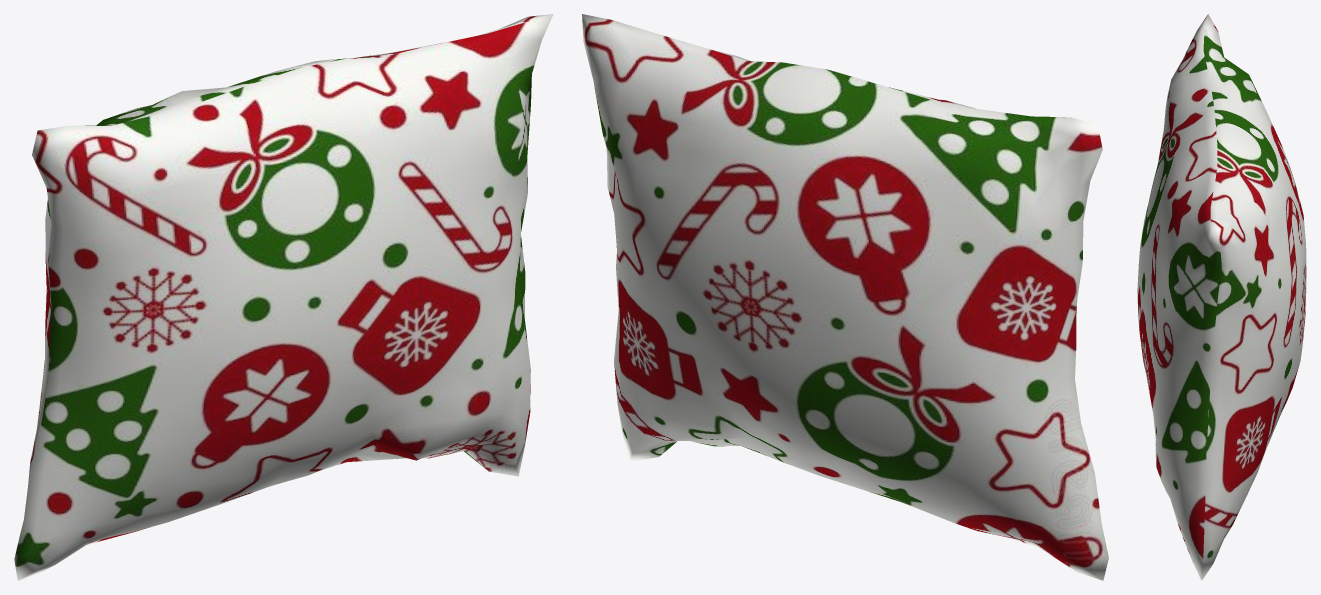
The model's file is Wrapped 3.fbx.
3 views of the same model, side by side, from view 1: azimuth 30°, elevation 25°; view 2: azimuth 150°, elevation 25°; view 3: azimuth 270°, elevation 25° (orthographic). The views are drawn at different scales.
Parts seen in each view (by area): view 1: Pillow Left.001; view 2: Pillow Left.001; view 3: Pillow Left.001.
Part boxes in pixels (x1,y1,x2,y2): Pillow Left.001: (14, 14, 553, 580); Pillow Left.001: (582, 14, 1108, 580); Pillow Left.001: (1137, 14, 1306, 580).
Size of the model in its own units: 85.42 by 70.01 by 28.53.
1 material, 1 textured.
